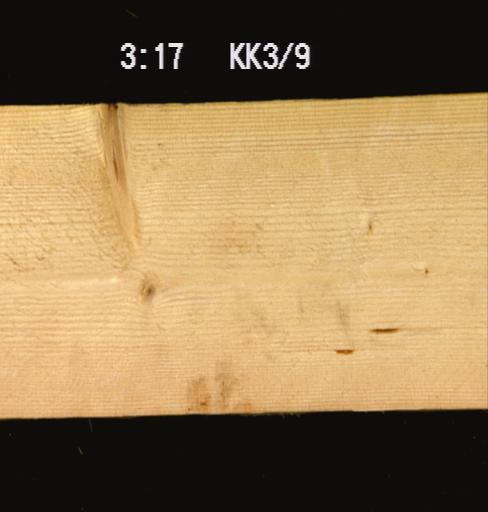small_knot: (135, 269, 159, 308)
